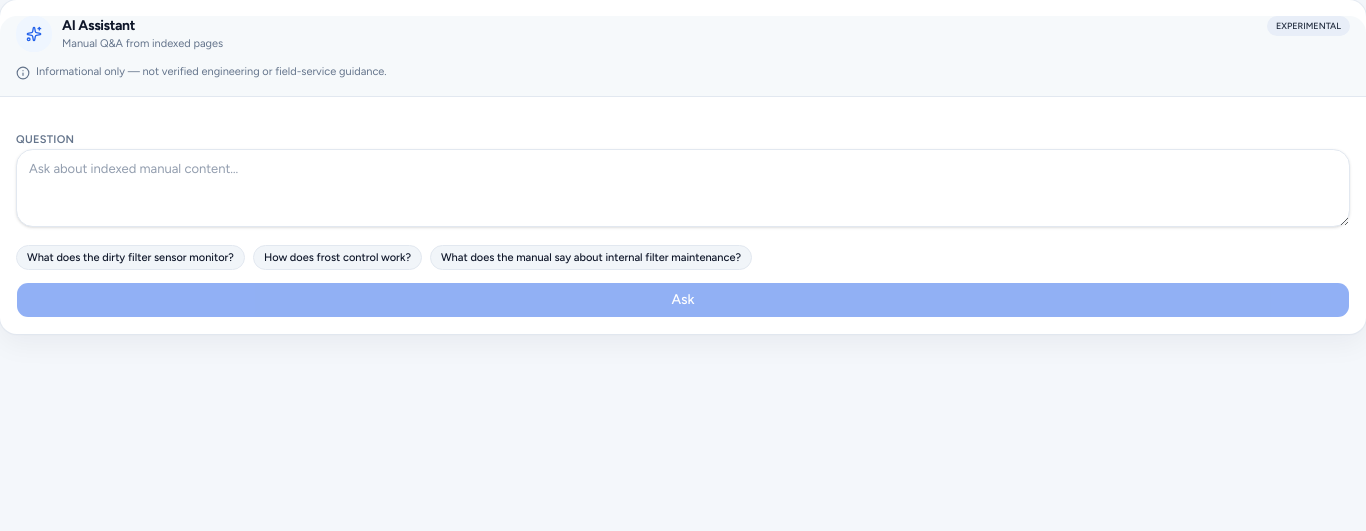
it: AiAssistantCard › fills and submits a suggested prompt
The image size is (1366, 531).
Click the button "What does the dirty filter sensor monitor?" at (130, 258), box [16,245,245,270]
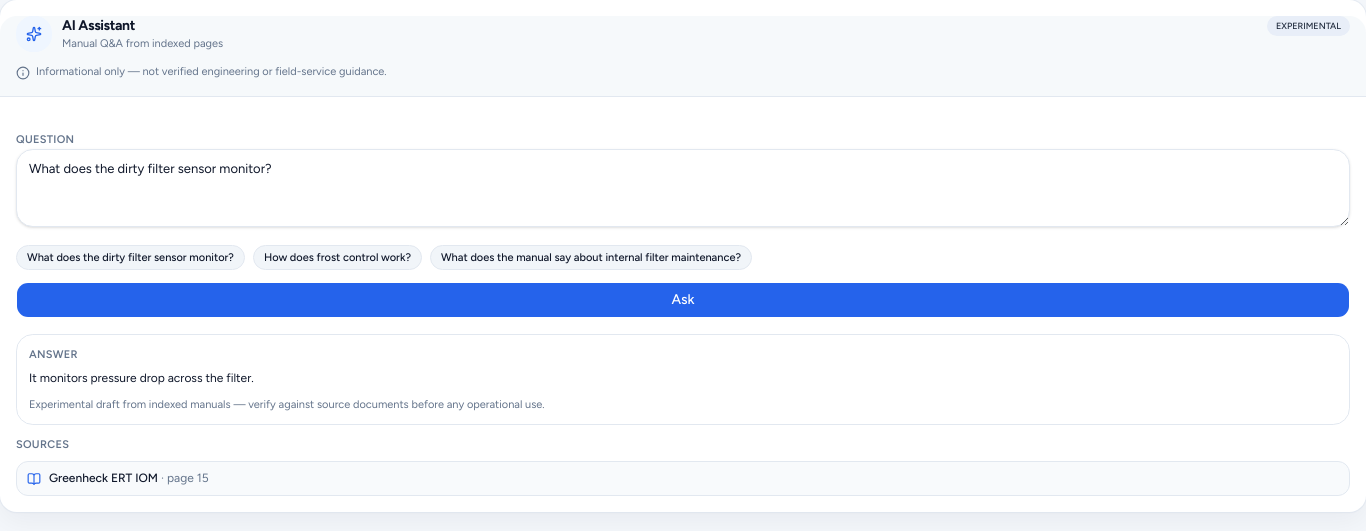
expect the element with test id "assistant-result" is shown: met, box [16,334,1350,496]
expect the text "Greenheck ERT IOM" is shown: met, box [49,471,158,485]
expect the text "· page 15" is shown: met, box [158,471,209,485]
